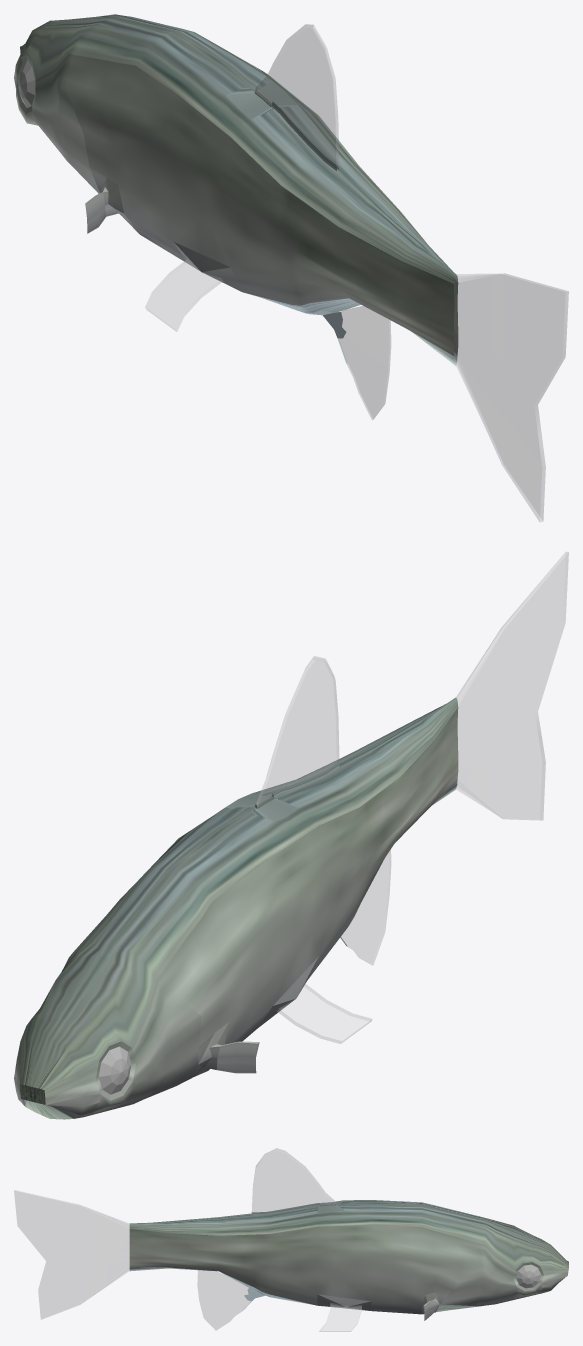
Rendered from hinamoroko_enemy.fbx.
3 views of the same model, one above another, from view 1: azimuth 30°, elevation 25°; view 2: azimuth 150°, elevation 25°; view 3: azimuth 270°, elevation 25° (orthographic). The views are drawn at different scales.
Parts seen in each view (by area): view 1: pCube3; view 2: pCube3; view 3: pCube3.
Part boxes in pixels (x1,y1,x2,y2): pCube3: (14, 14, 568, 522); pCube3: (14, 552, 568, 1119); pCube3: (14, 1148, 568, 1331).
Size of the model in its own units: 3.52 by 6.38 by 17.55.
